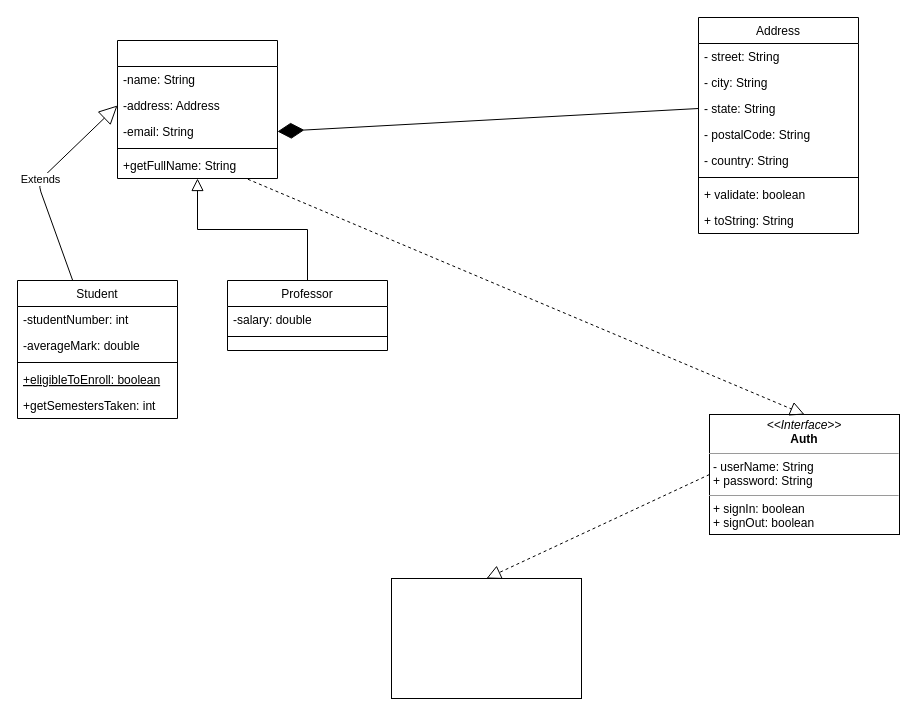
This 917x716 diagram has some shape labels left out. Each missing label, with the box of its shape:
<<Interface>> ServerRequest + validatePassword: String: (390, 578, 582, 698)
Person: (116, 40, 278, 178)
